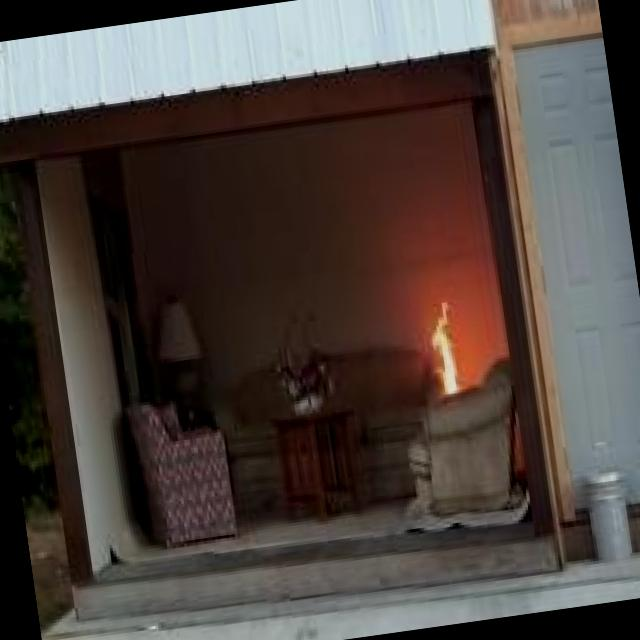fire: (406, 279, 496, 408)
